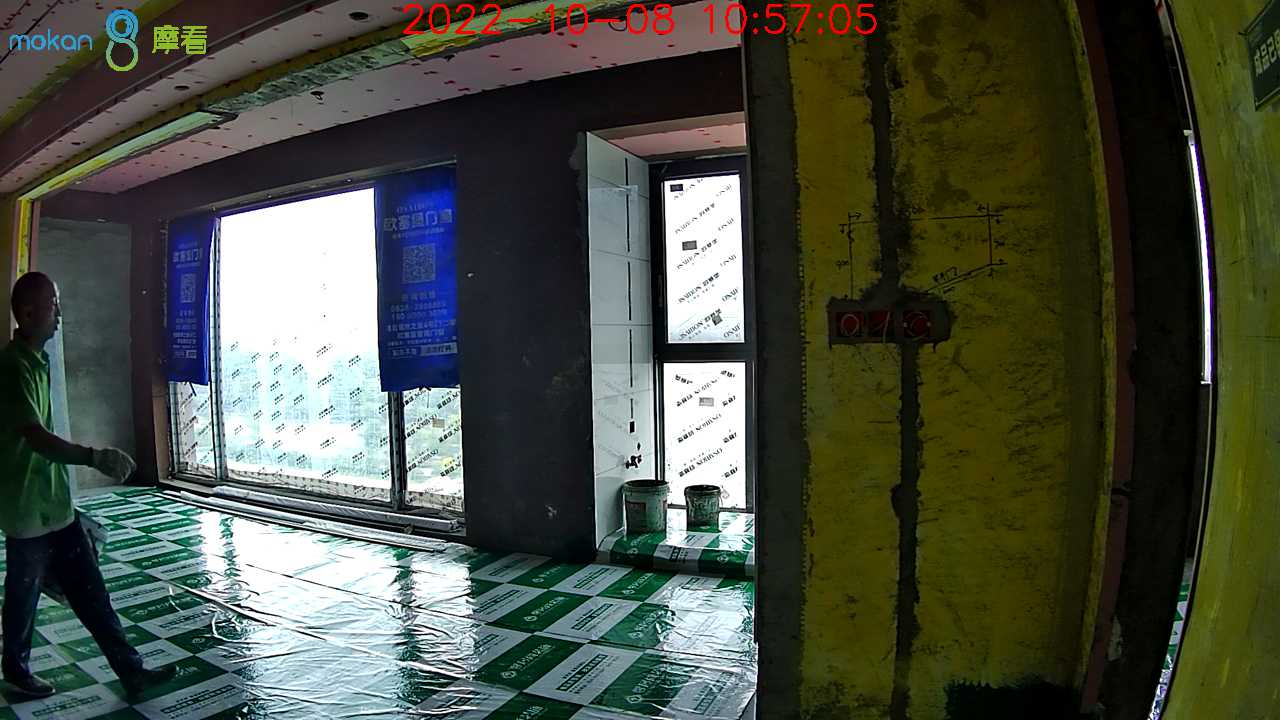people: (1, 272, 177, 699)
window: (163, 179, 467, 525), (661, 160, 749, 515)
